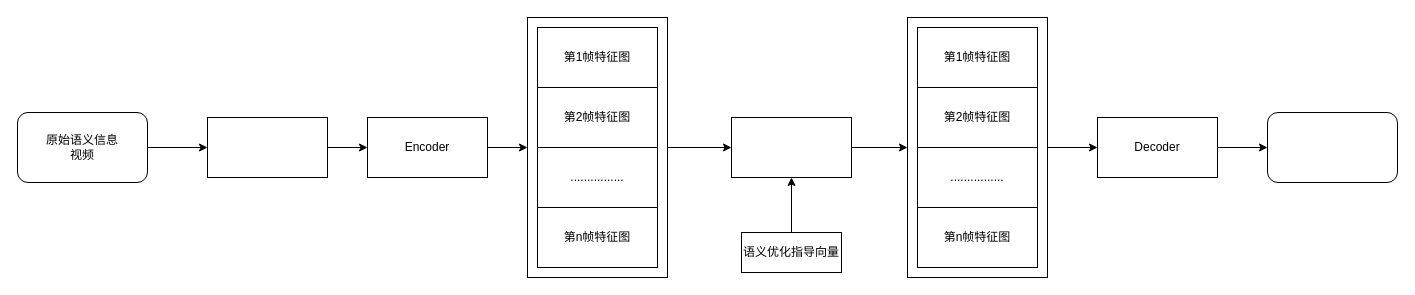
Image size: 1415x295. Some labels were removed from this diagram. The centre of each missing label's shape, as x and y in pixels:
优化后的原始语义信息 视频: pixel 1332 147
视频图像堆叠嵌入层: pixel 267 147
语义信息优化模型: pixel 791 147
